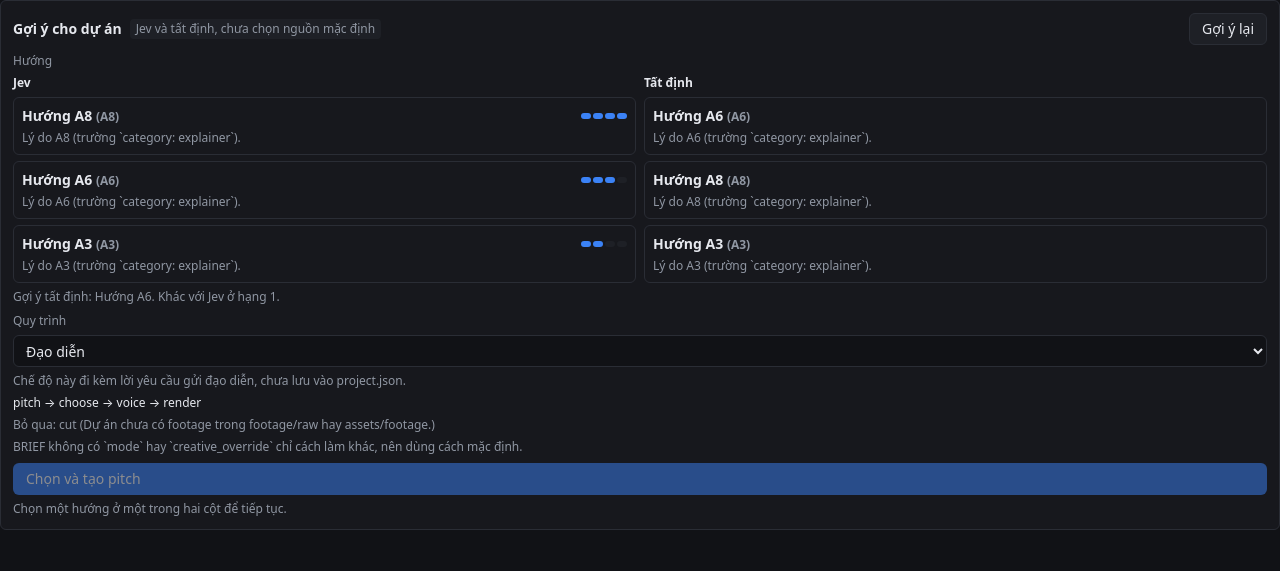
SuggestCard › observe shows both columns, picks nothing, and compares rank one
expect the element that starts with "Jev" is shown: met, box left=13, top=75, right=1267, bottom=283
expect the text "Jev và tất định, chưa chọn nguồn mặc định" is shown: met, box left=130, top=19, right=381, bottom=39
Click the 1st radio button labelled "Hướng A8 (A8) Lý do A8 (trường `category: explainer`).": (57, 116) left=13, top=97, right=636, bottom=155
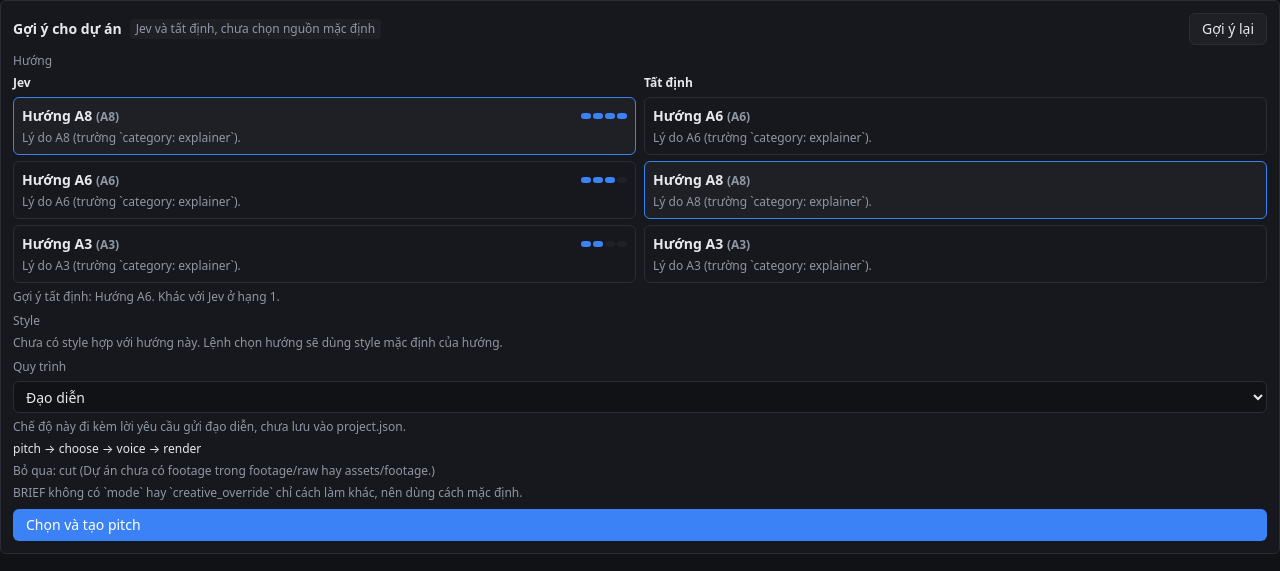
expect the button "Chọn và tạo pitch" is enabled: met, box left=13, top=509, right=1267, bottom=541
